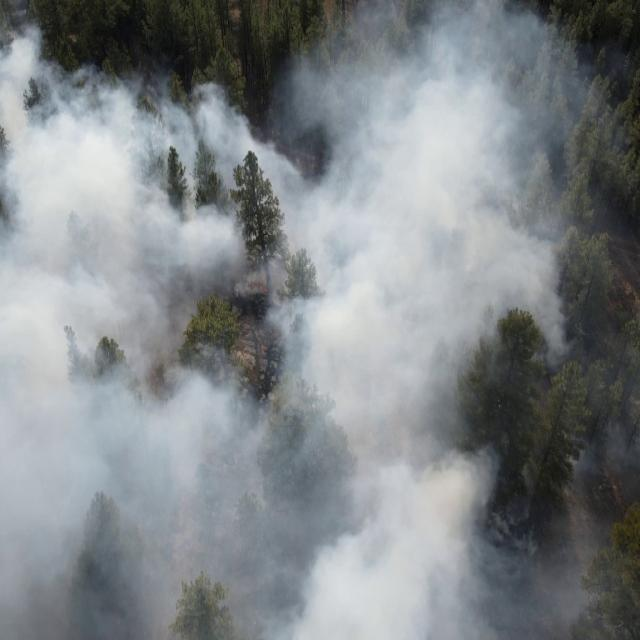smoke: (45, 61, 640, 640), (0, 0, 45, 640), (296, 0, 578, 61)
